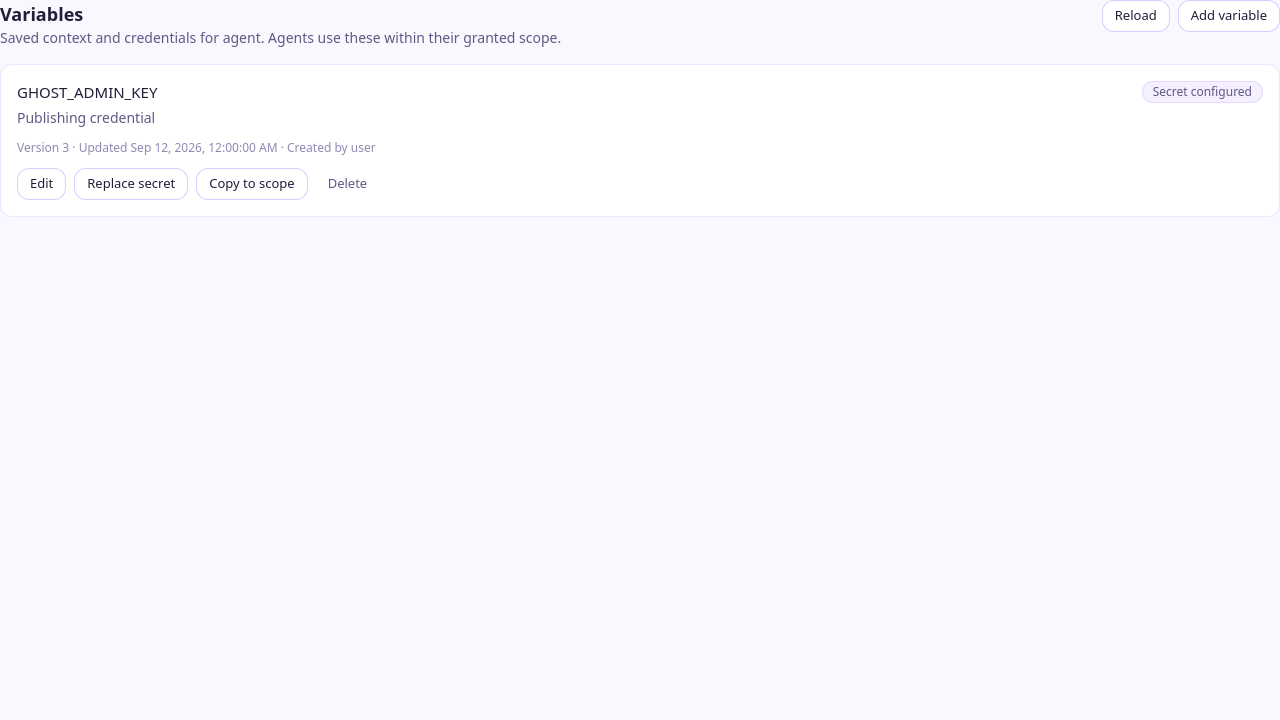
Test: copies a secret to an explicit team scope without requesting or sending its value
This screenshot has width=1280, height=720.
Expected: the heading "GHOST_ADMIN_KEY" is shown, [17,81,157,104]
Click the button "Copy to scope" at (252, 184), box [196,168,308,200]
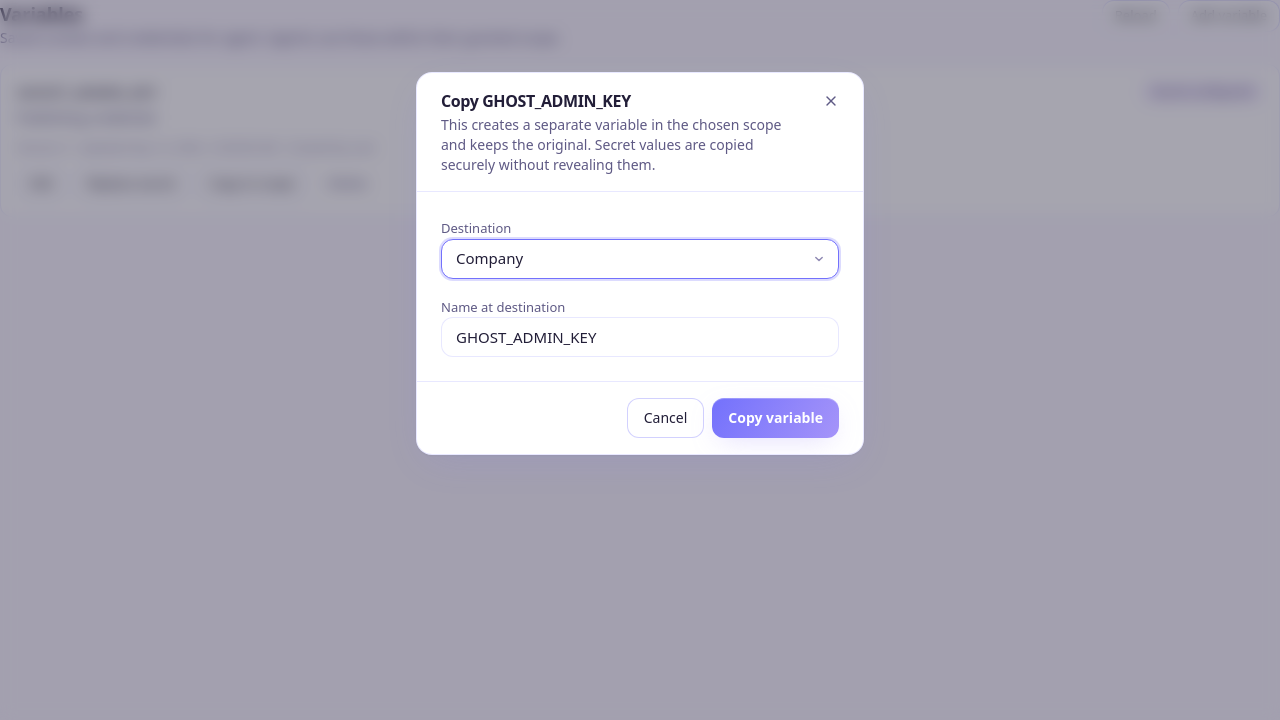
Select "Team: Marketing" in the dropdown labelled "Destination" at (640, 258), box [441,238,839,278]
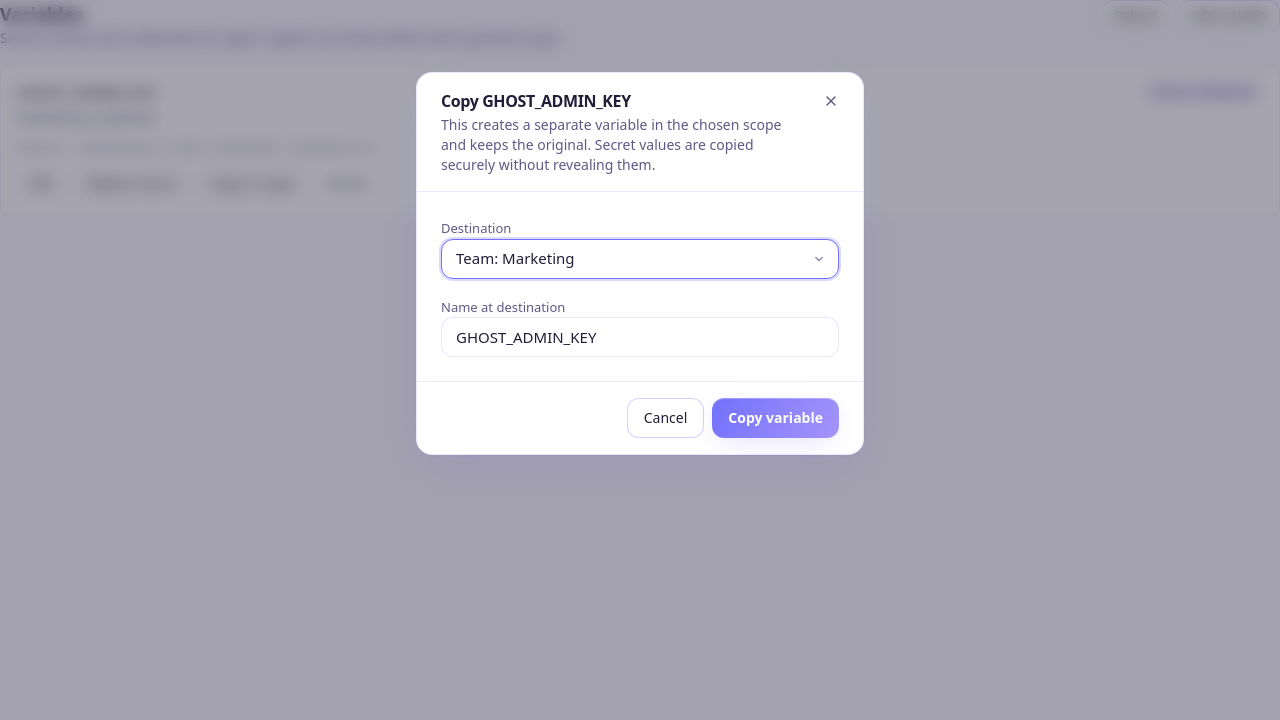
Click the button "Copy variable" at (776, 418), box [712,398,839,438]
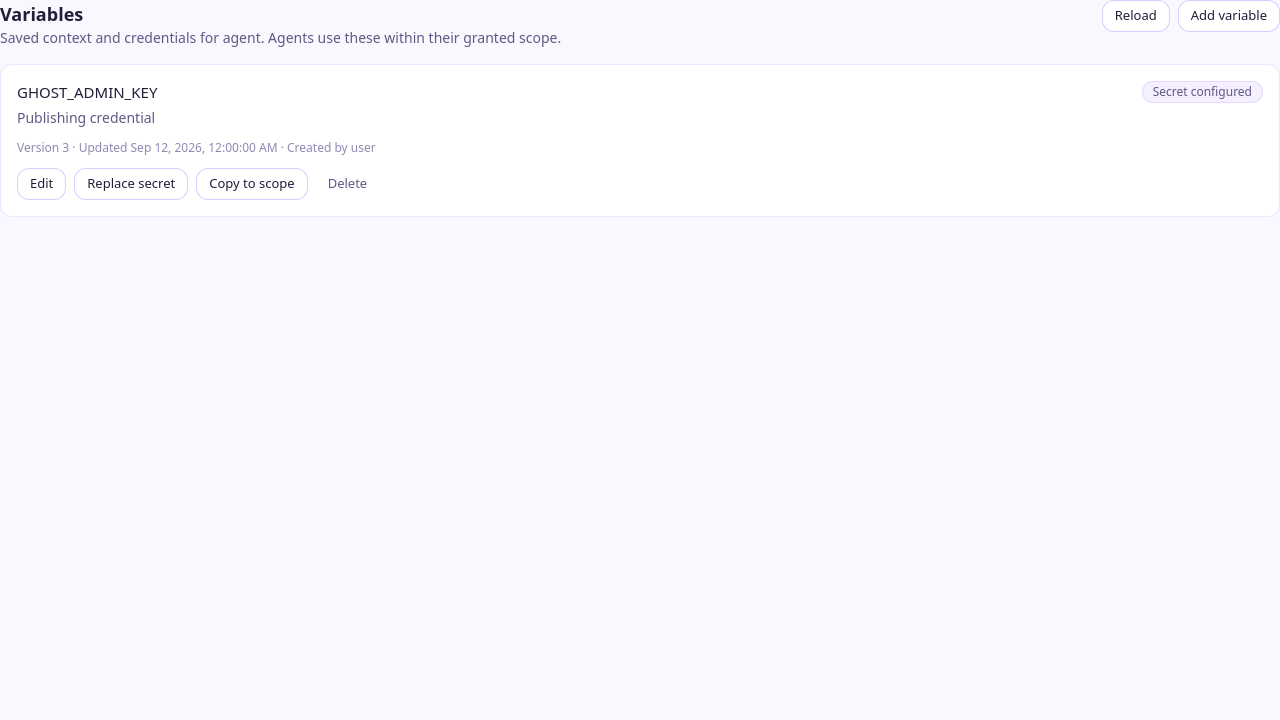
Result: the dialog is gone
